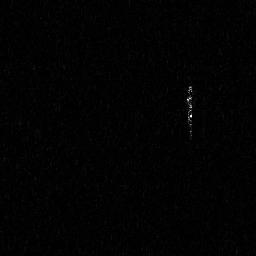ship: (187, 83, 196, 139)
